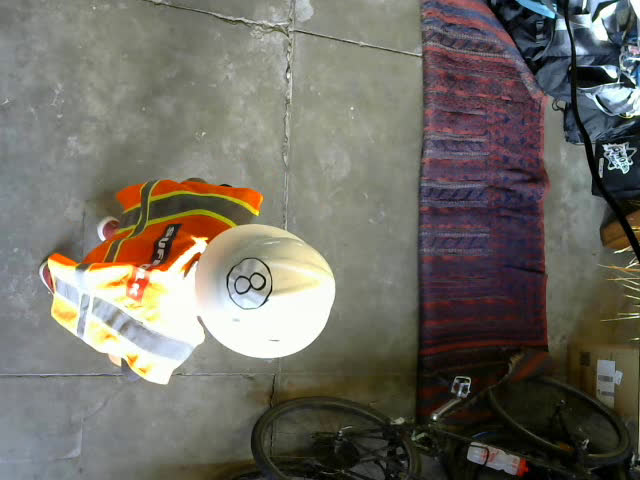eight: (226, 257, 273, 309)
